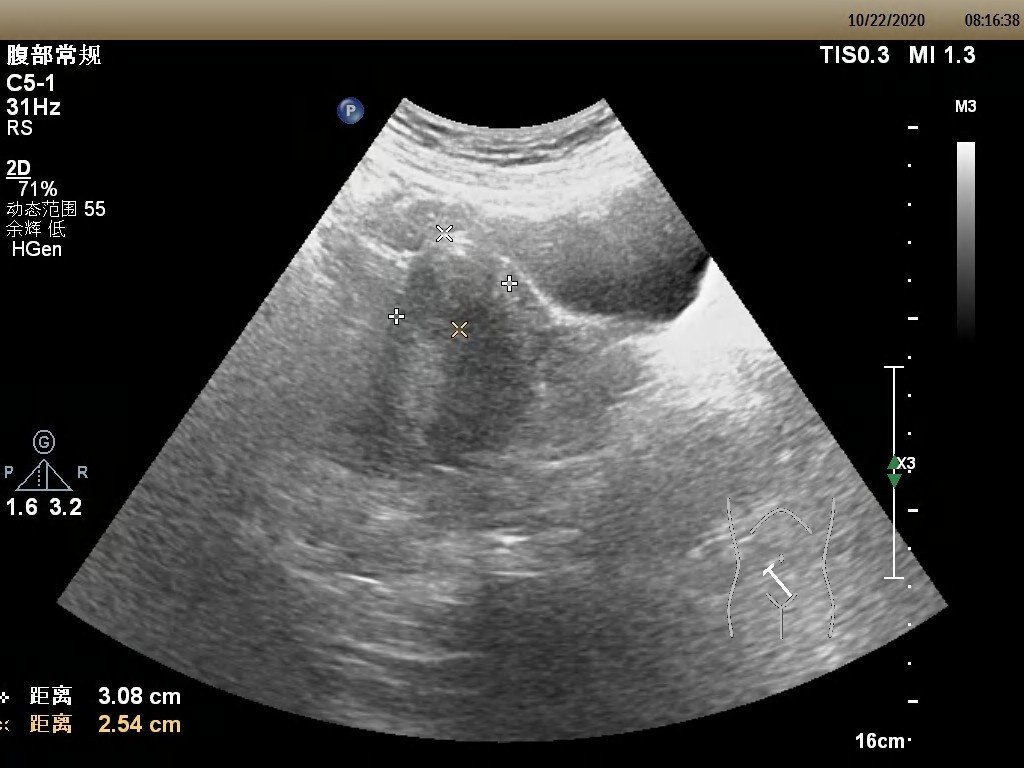肌瘤: (402, 241, 498, 326)
